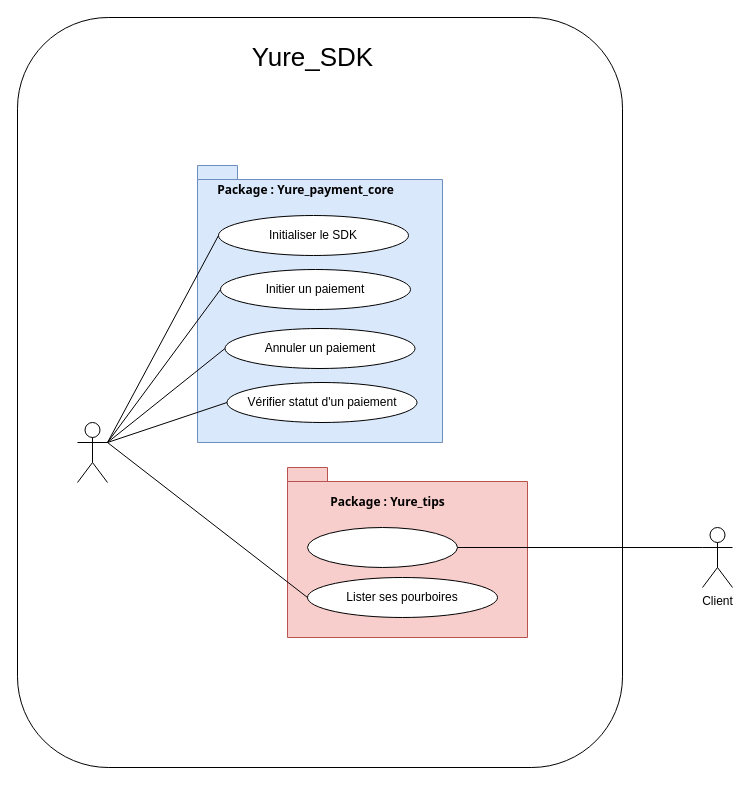
Some shapes in this 750 by 785 pixel diagram are drawn without their labels. The shapes that lost their labels are listed below. From the top down, each one's centre as x and y in pixels, then its label:
At [92,452]: "Commerçant".
At [382,547]: "Ajouter un pourboire".
